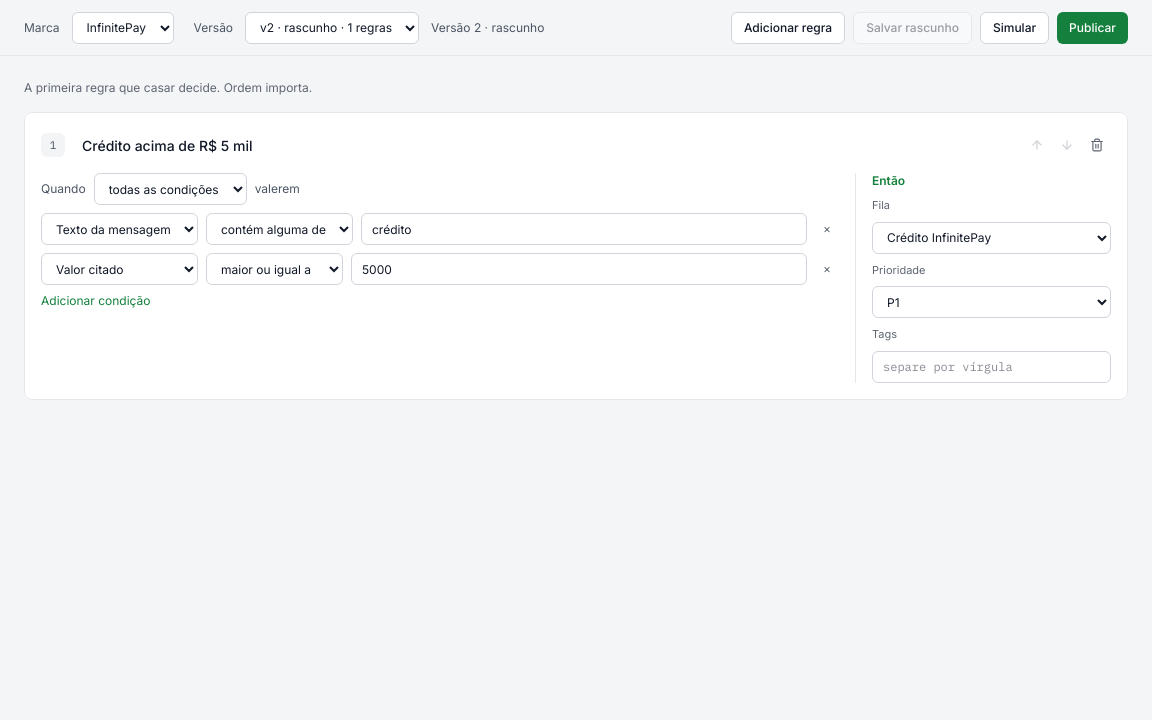
editor de regras › simula o rascunho e publica depois de confirmar
Later steps or results of the test are not shown.
Click the button "Simular": {"x": 1015, "y": 28} [980, 12, 1049, 44]
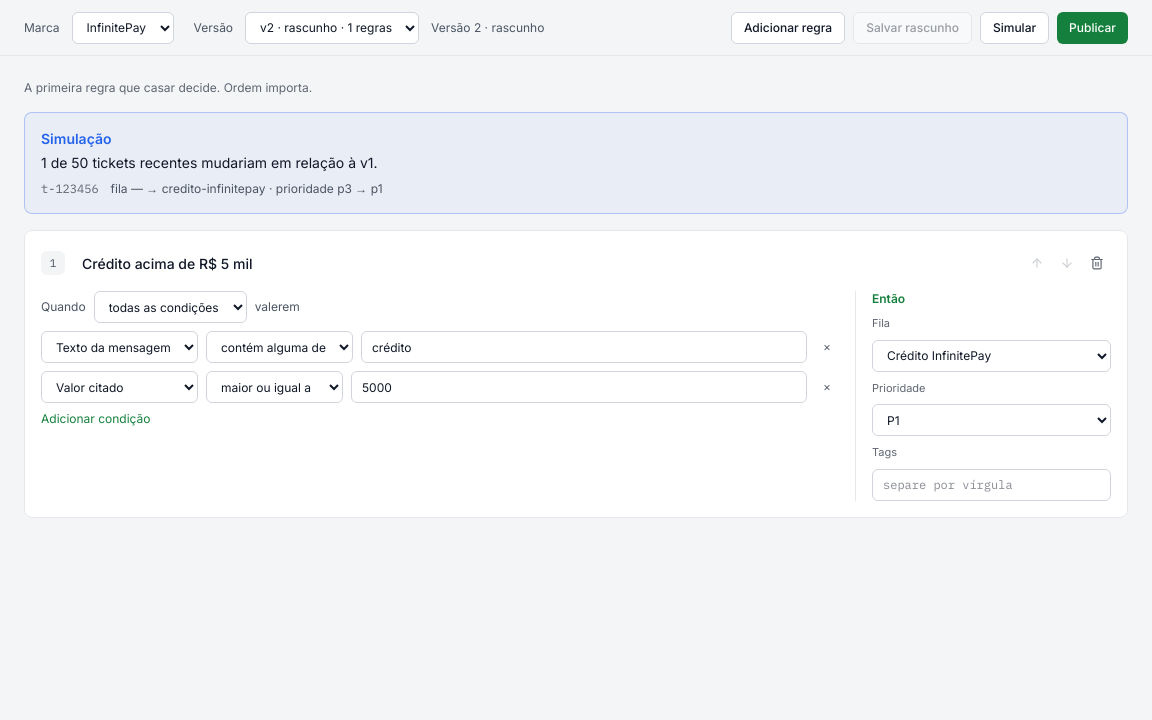
Check: the element named "Resultado da simulação" shows "1 de 50 tickets recentes mudariam", box [24, 112, 1128, 214]
Check: the element named "Resultado da simulação" shows "p3 → p1", box [111, 181, 383, 196]
